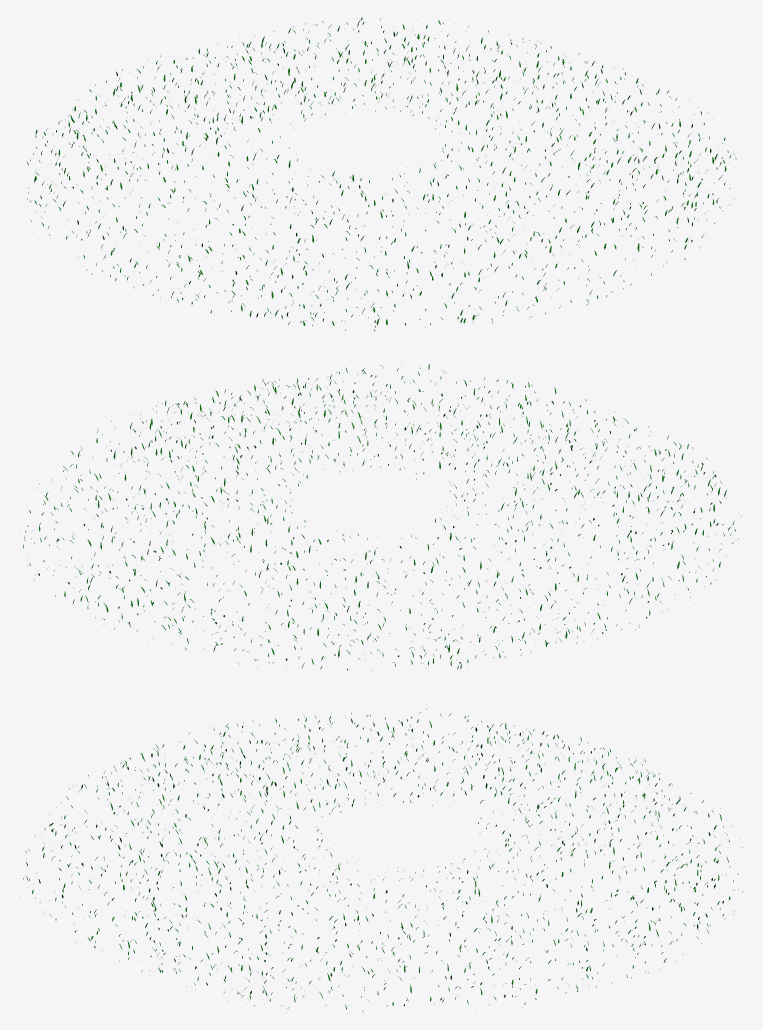
File: 02_Grass20k_01.fbx
3 renders of one model, top to bottom at view 1: azimuth 30°, elevation 25°; view 2: azimuth 150°, elevation 25°; view 3: azimuth 270°, elevation 25°, orthographic.
Visible parts, largest first — view 1: Grass6k_geo; view 2: Grass6k_geo; view 3: Grass6k_geo.
Part boxes in pixels (box(x1,y1,x2,y2)): Grass6k_geo: box(27, 17, 736, 330); Grass6k_geo: box(23, 364, 741, 670); Grass6k_geo: box(20, 708, 742, 1012).
Bounding box in the file's own units: 4555 × 252 × 4573.
Materials: 1 (1 with a texture image).
